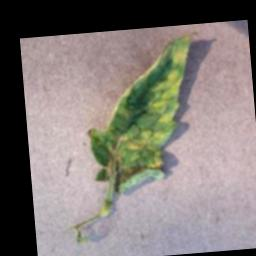Leaf_Mold: (81, 31, 201, 191)
